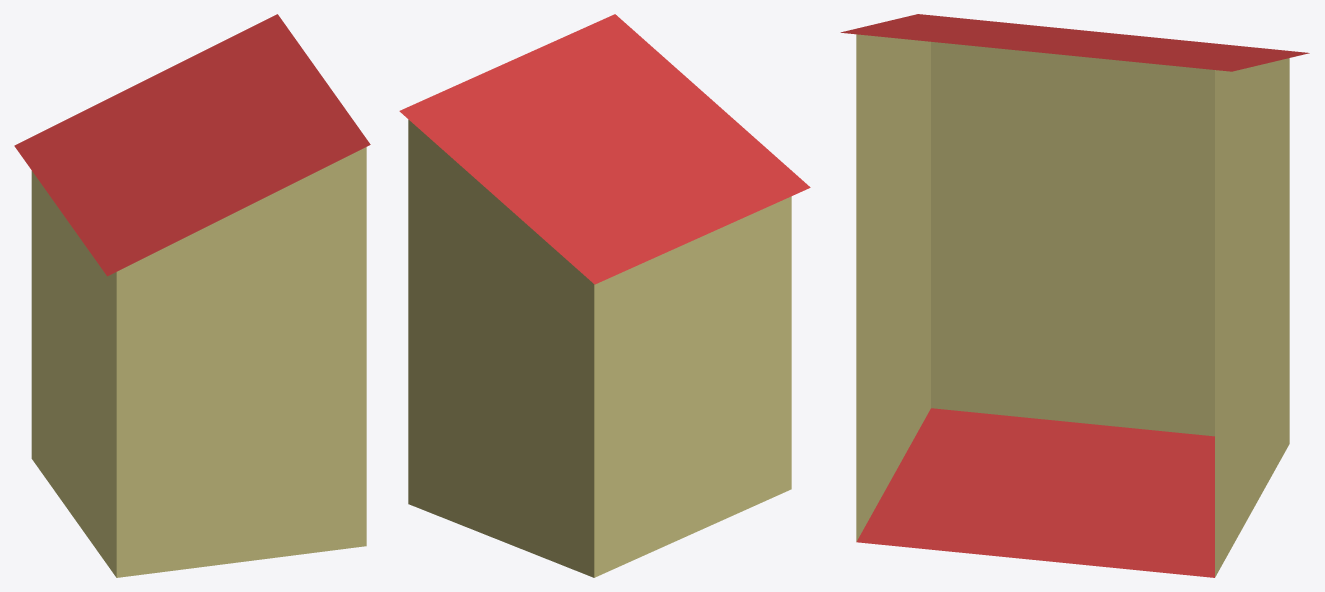
3 views of the same model, side by side, from view 1: azimuth 30°, elevation 25°; view 2: azimuth 150°, elevation 25°; view 3: azimuth 270°, elevation 25° (orthographic). The views are drawn at different scales.
Size of the model in its own units: 6.13 by 6.77 by 8.05.
